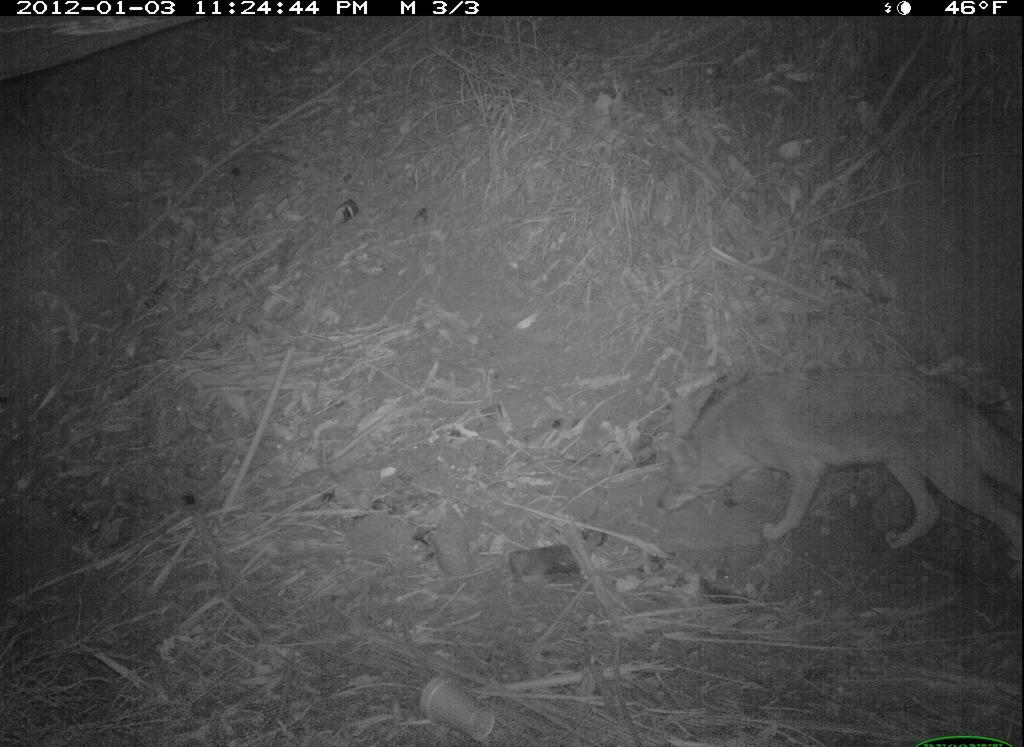coyote: (658, 359, 1023, 564)
